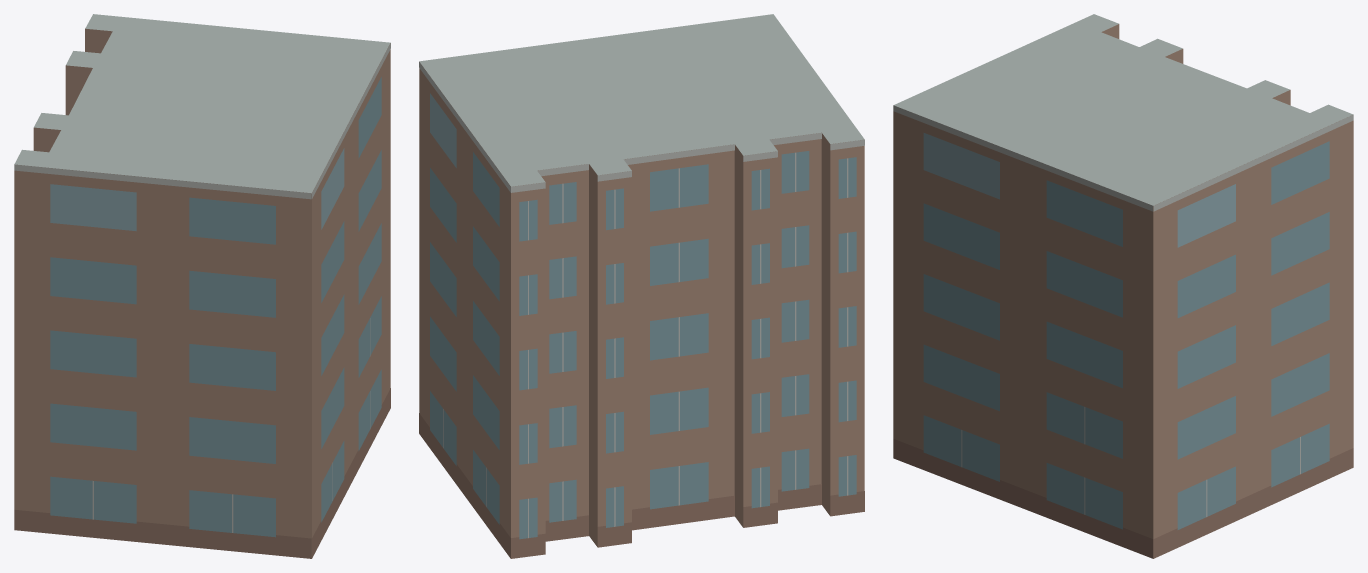
The model's file is survey-upis-32887609.glb.
The picture shows the model from 3 angles, left to right: view 1: azimuth 30°, elevation 25°; view 2: azimuth 150°, elevation 25°; view 3: azimuth 270°, elevation 25°; orthographic projection. The views are drawn at different scales.
Parts seen in each view (by area): view 1: survey-upis-32887609.tmp; view 2: survey-upis-32887609.tmp; view 3: survey-upis-32887609.tmp.
Part boxes in pixels (box(x1,y1,x2,y2)): survey-upis-32887609.tmp: box(14, 14, 390, 558); survey-upis-32887609.tmp: box(419, 14, 864, 558); survey-upis-32887609.tmp: box(893, 14, 1353, 558).
Size of the model in its own units: 16.9 by 14.5 by 17.14.
